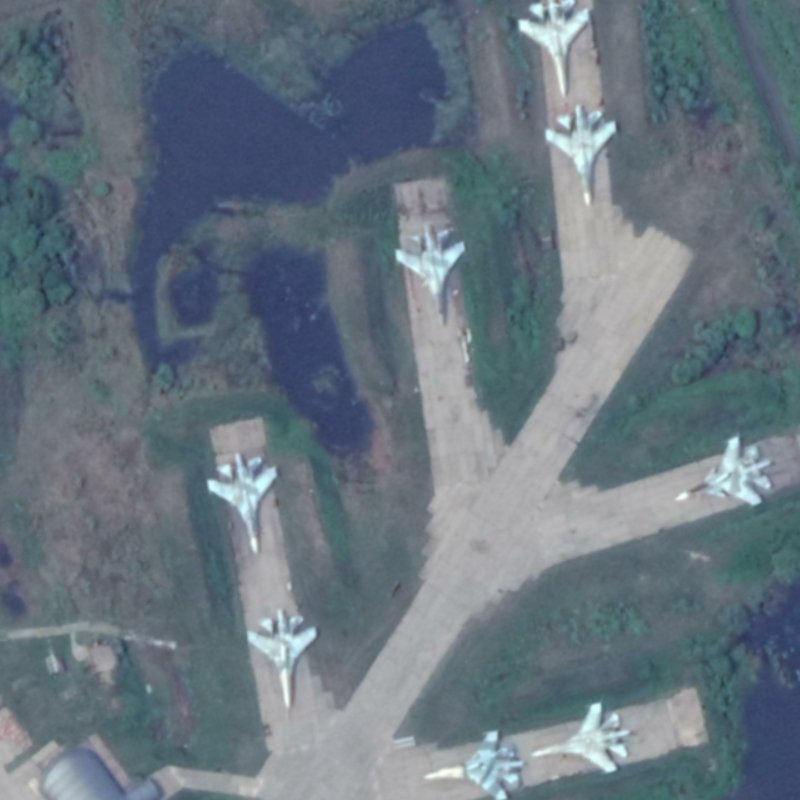A1: (540, 102, 620, 211), (204, 449, 281, 557), (392, 220, 467, 330), (515, 1, 596, 100), (530, 700, 634, 776), (244, 607, 319, 712), (421, 726, 526, 800)
A19: (671, 434, 775, 509)
